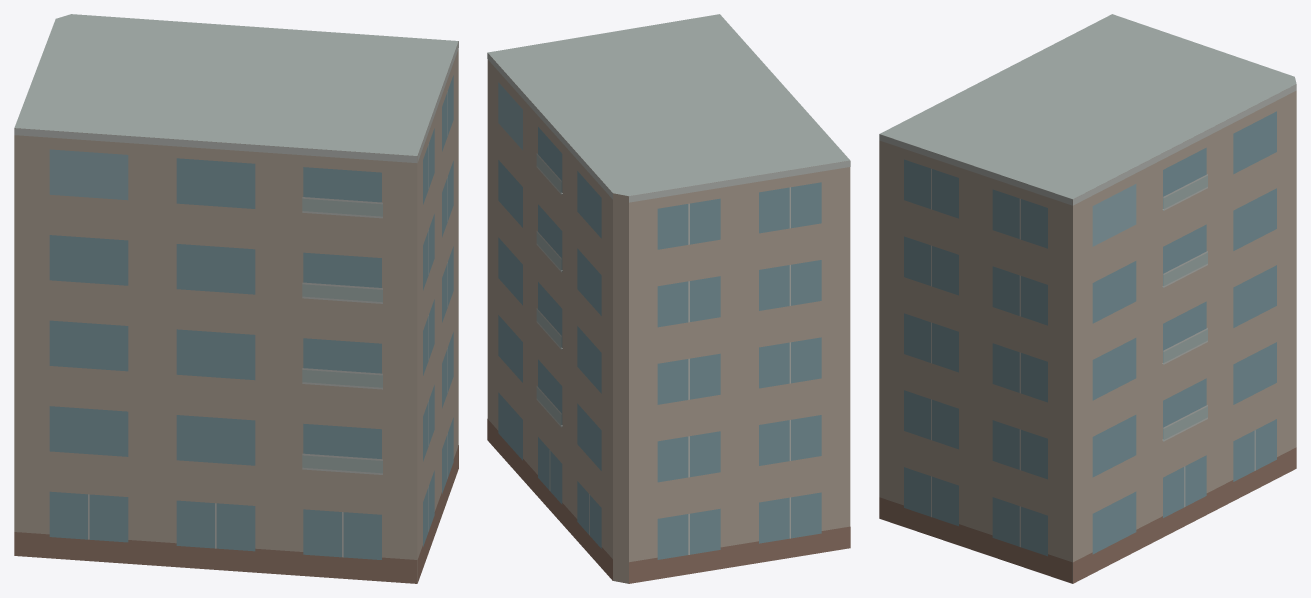
File: survey-upis-32754409.glb
3 renders of one model, left to right at view 1: azimuth 30°, elevation 25°; view 2: azimuth 150°, elevation 25°; view 3: azimuth 270°, elevation 25°, orthographic. The views are drawn at different scales.
Parts seen in each view (by area): view 1: survey-upis-32754409.tmp; view 2: survey-upis-32754409.tmp; view 3: survey-upis-32754409.tmp.
Boxes of the visible parts, x1,y1,x2,y2 form: survey-upis-32754409.tmp: (14, 14, 458, 583); survey-upis-32754409.tmp: (487, 14, 850, 583); survey-upis-32754409.tmp: (879, 14, 1296, 583).
Bounding box in the file's own units: 15.09 × 14.6 × 14.36.
